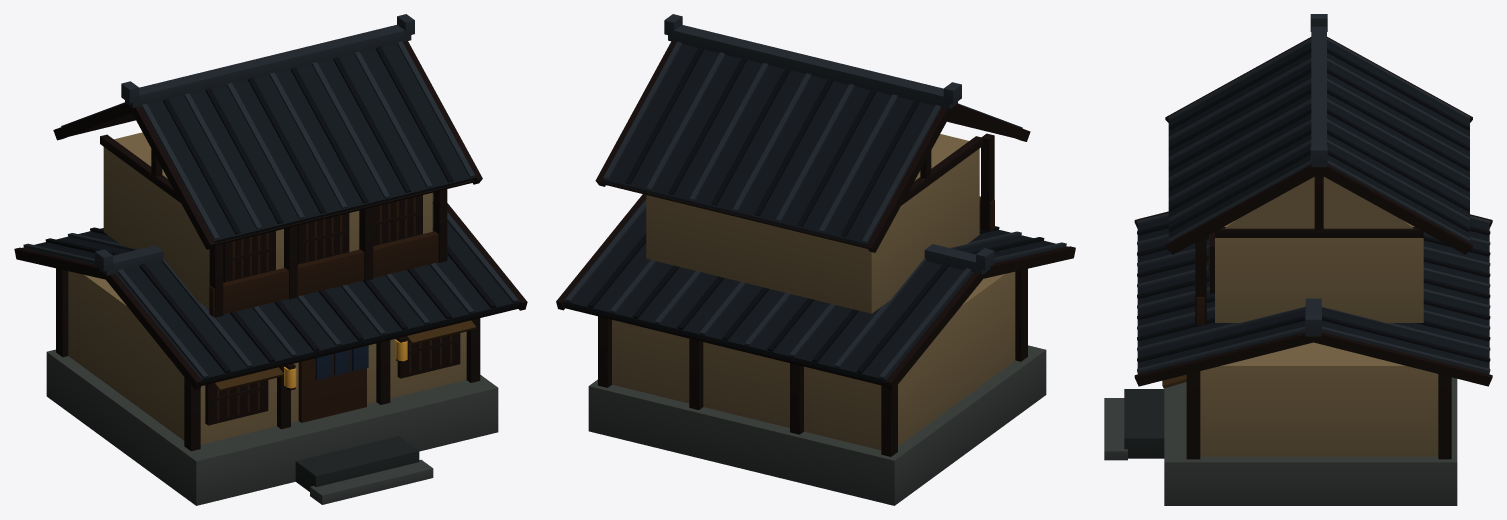
The model's file is guofeng_house_hall.glb.
The picture shows the model from 3 angles, left to right: view 1: azimuth 30°, elevation 25°; view 2: azimuth 150°, elevation 25°; view 3: azimuth 270°, elevation 25°; orthographic projection. The views are drawn at different scales.
Parts seen in each view (by area): view 1: Shell; view 2: Shell; view 3: Shell.
Boxes of the visible parts, left/top/right/bottom form: Shell: left=14, top=14, right=527, bottom=505; Shell: left=556, top=14, right=1075, bottom=505; Shell: left=1104, top=14, right=1492, bottom=505.
Bounding box in the file's own units: 1 × 1 × 1.
